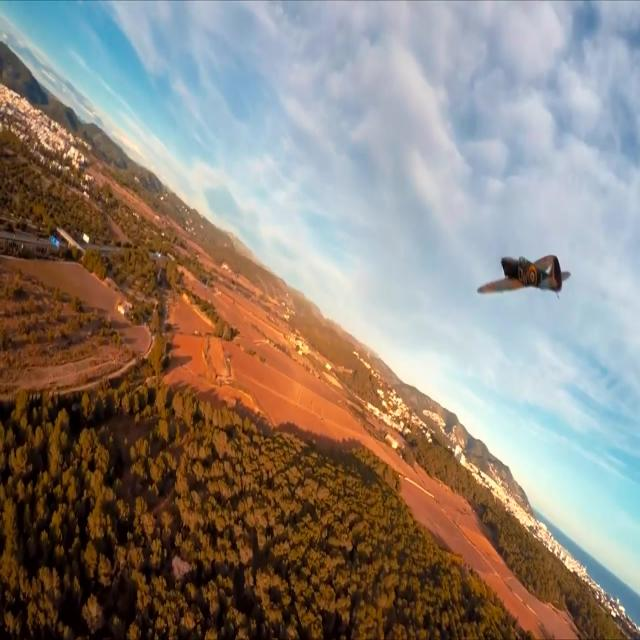iha: (502, 252, 532, 299)
